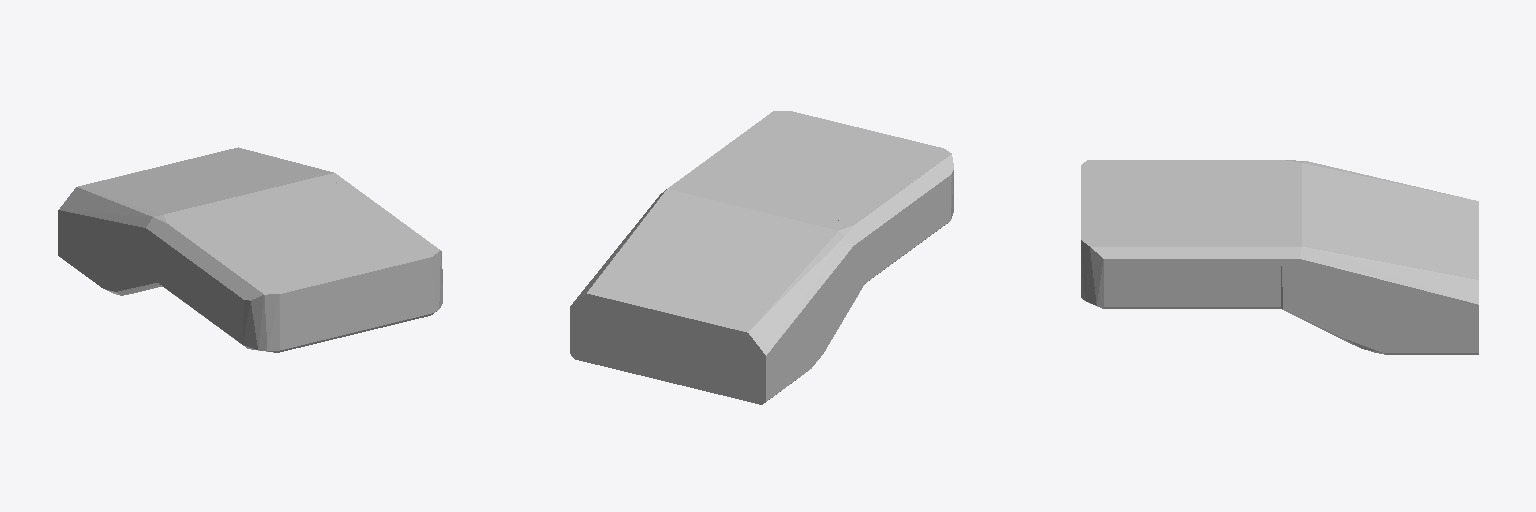
Rendered from finger1.obj.
3 views of the same model, side by side, from view 1: azimuth 30°, elevation 25°; view 2: azimuth 150°, elevation 25°; view 3: azimuth 270°, elevation 25° (orthographic).
Size of the model in its own units: 0.0213 by 0.0111 by 0.0375.